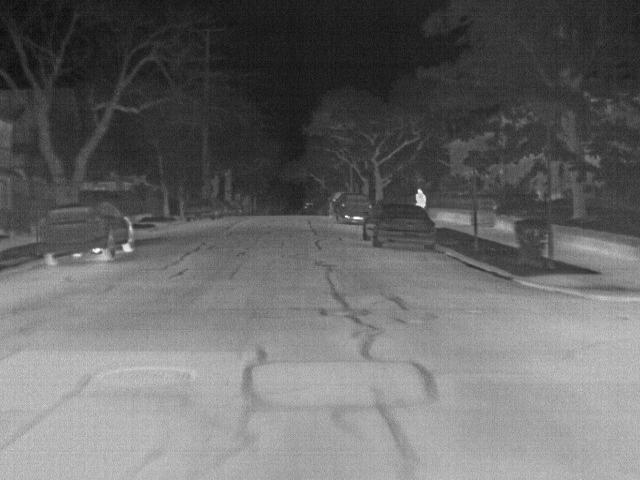car: (34, 199, 134, 268), (362, 204, 437, 248), (333, 193, 368, 223), (184, 198, 218, 220), (300, 200, 314, 214), (328, 194, 337, 215), (216, 200, 229, 214), (228, 199, 238, 212)
person: (415, 188, 426, 208)
